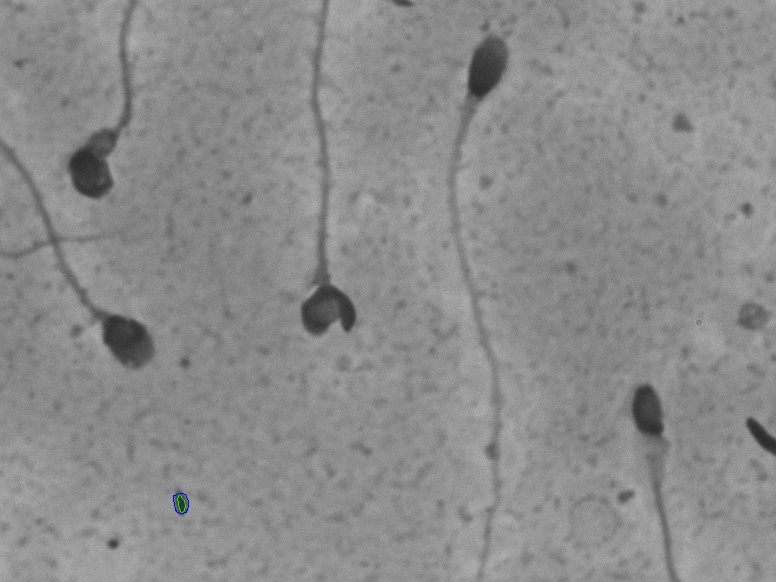Abnormal: (270, 21, 364, 352), (28, 240, 191, 416), (36, 18, 171, 209), (603, 364, 707, 545)
Normal: (396, 26, 536, 579)
